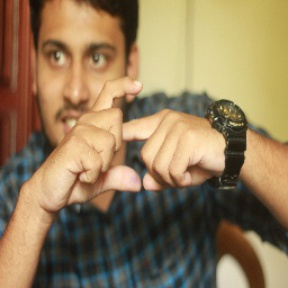E: (68, 76, 179, 197)
